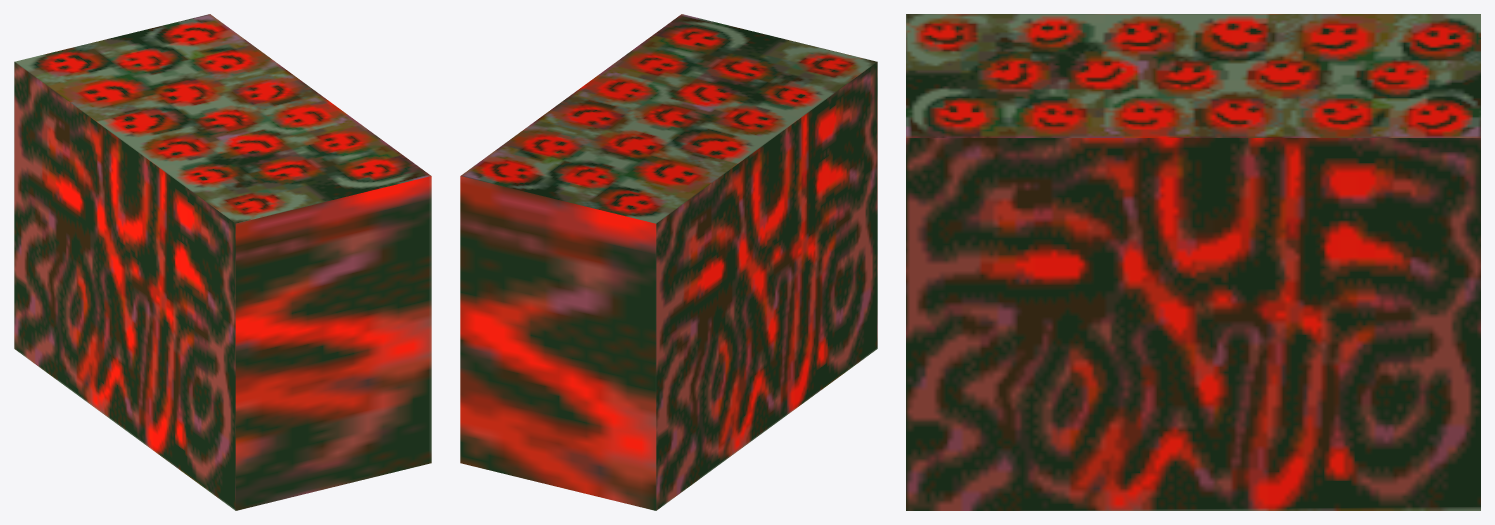
Rendered from Pistol_Ammo.glb.
The picture shows the model from 3 angles, left to right: view 1: azimuth 30°, elevation 25°; view 2: azimuth 150°, elevation 25°; view 3: azimuth 270°, elevation 25°; orthographic projection. The views are drawn at different scales.
Parts seen in each view (by area): view 1: pistol_ammo; view 2: pistol_ammo; view 3: pistol_ammo.
Boxes of the visible parts, <box> form: pistol_ammo: <box>14,14,431,510</box>; pistol_ammo: <box>460,14,877,510</box>; pistol_ammo: <box>906,14,1480,510</box>.
Bounding box in the file's own units: 0.0879 × 0.1232 × 0.1721.
Materials: 1 (1 with a texture image).
